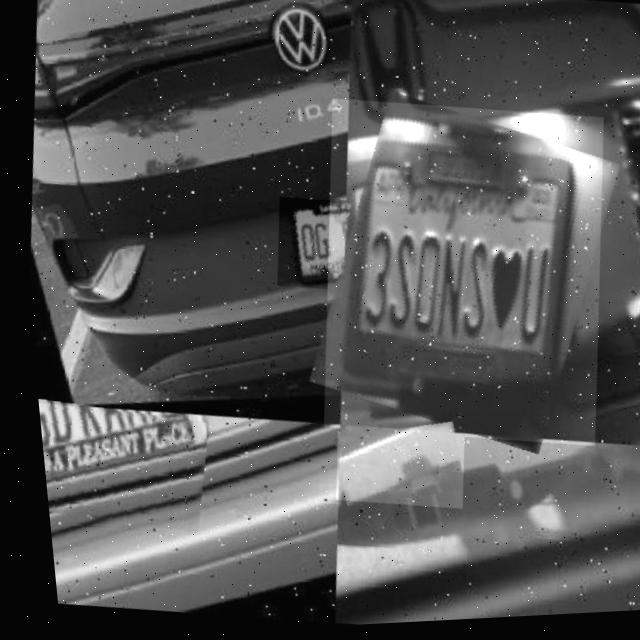LicensePlate: (290, 91, 625, 463), (30, 392, 205, 537), (319, 417, 461, 518), (275, 206, 345, 289)
